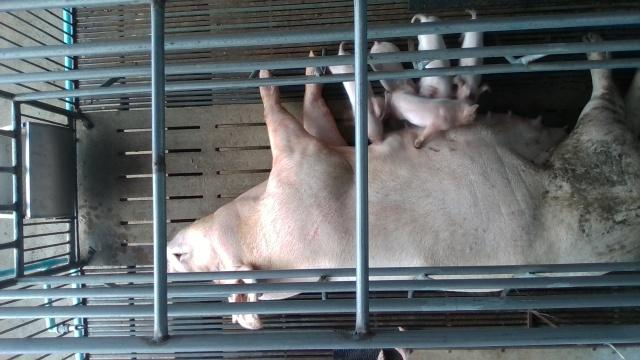piglet: (327, 42, 383, 143), (391, 85, 479, 149), (413, 14, 457, 98), (451, 10, 492, 98), (367, 41, 418, 92)
sow-sleep-lactate: (167, 33, 640, 292)
